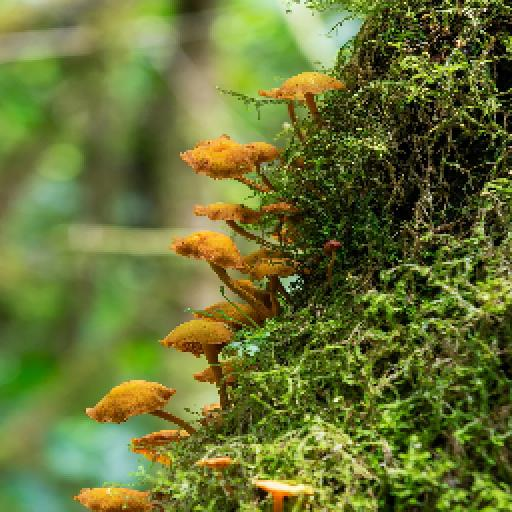mushrooms: (178, 136, 282, 198), (158, 316, 246, 382), (256, 70, 348, 122), (84, 380, 178, 428), (170, 230, 242, 282), (130, 430, 202, 464), (238, 256, 302, 294), (248, 478, 322, 510), (74, 484, 156, 510), (192, 200, 252, 230), (242, 200, 302, 222)
trees: (168, 0, 510, 510)
